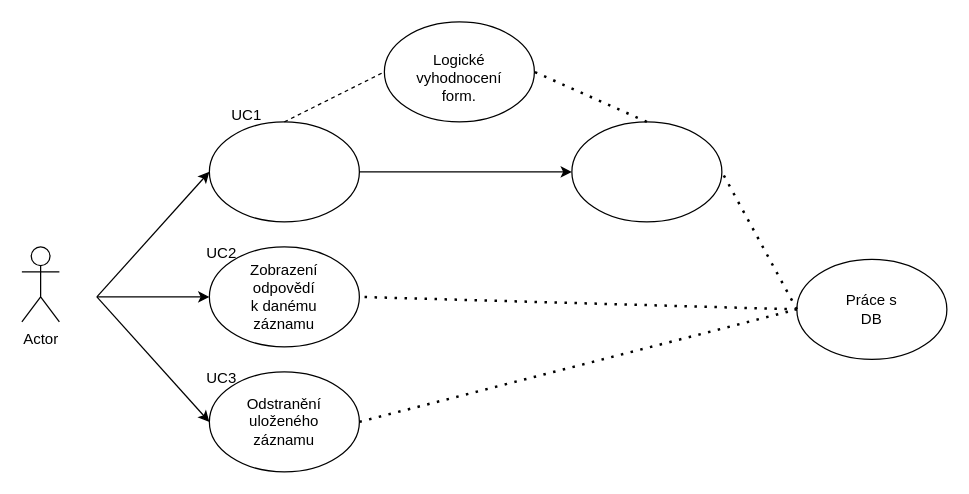
Some shapes in this 969 by 494 pixel diagram are drawn without their labels. The centre of each missing label's shape, as x and y in pixels:
"Uložení vyhodnocení" goes at (646,171).
"Žádost o vyhodnocení vyplněného formul." goes at (283,171).
